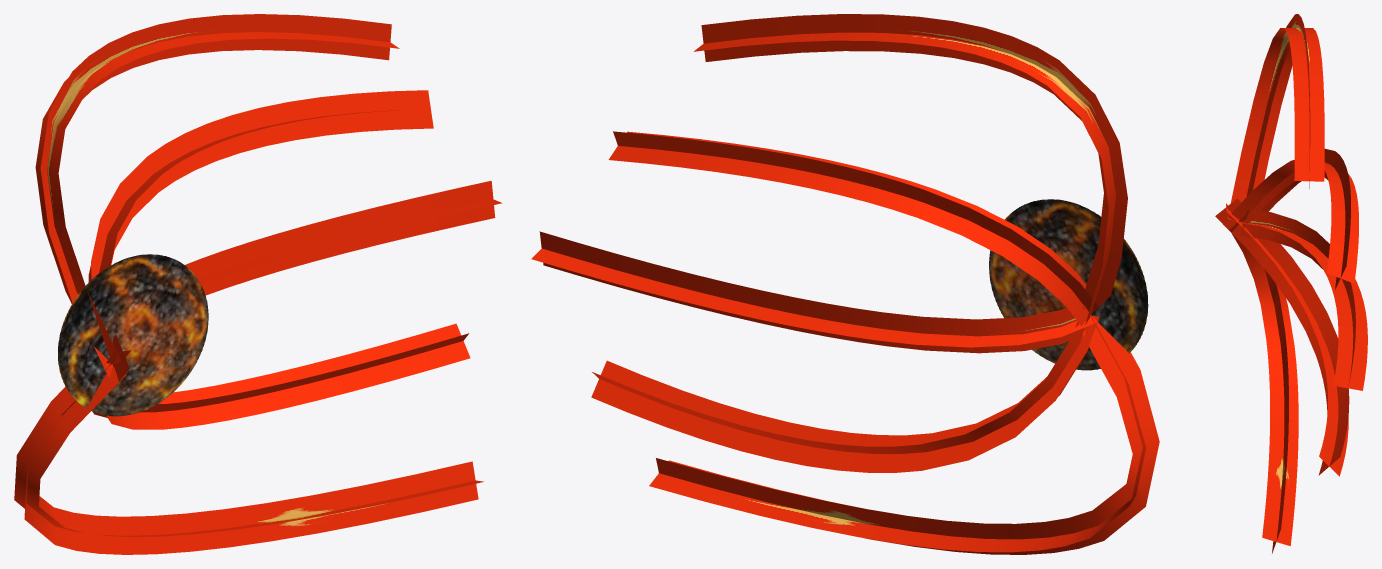
The model's file is amgoat_skill_03_buff.fbx.
3 renders of one model, left to right at view 1: azimuth 30°, elevation 25°; view 2: azimuth 150°, elevation 25°; view 3: azimuth 270°, elevation 25°, orthographic. The views are drawn at different scales.
Parts seen in each view (by area): view 1: huiju_04, yunshi; view 2: huiju_04, yunshi; view 3: huiju_04.
Boxes of the visible parts, bbox=[...] form: huiju_04: bbox=[14, 14, 502, 554]; yunshi: bbox=[58, 254, 208, 416]; huiju_04: bbox=[531, 14, 1159, 554]; yunshi: bbox=[989, 199, 1148, 370]; huiju_04: bbox=[1215, 14, 1367, 553].
Size of the model in its own units: 0.9255 by 0.8681 by 0.2941.
3 materials, 3 textured.
